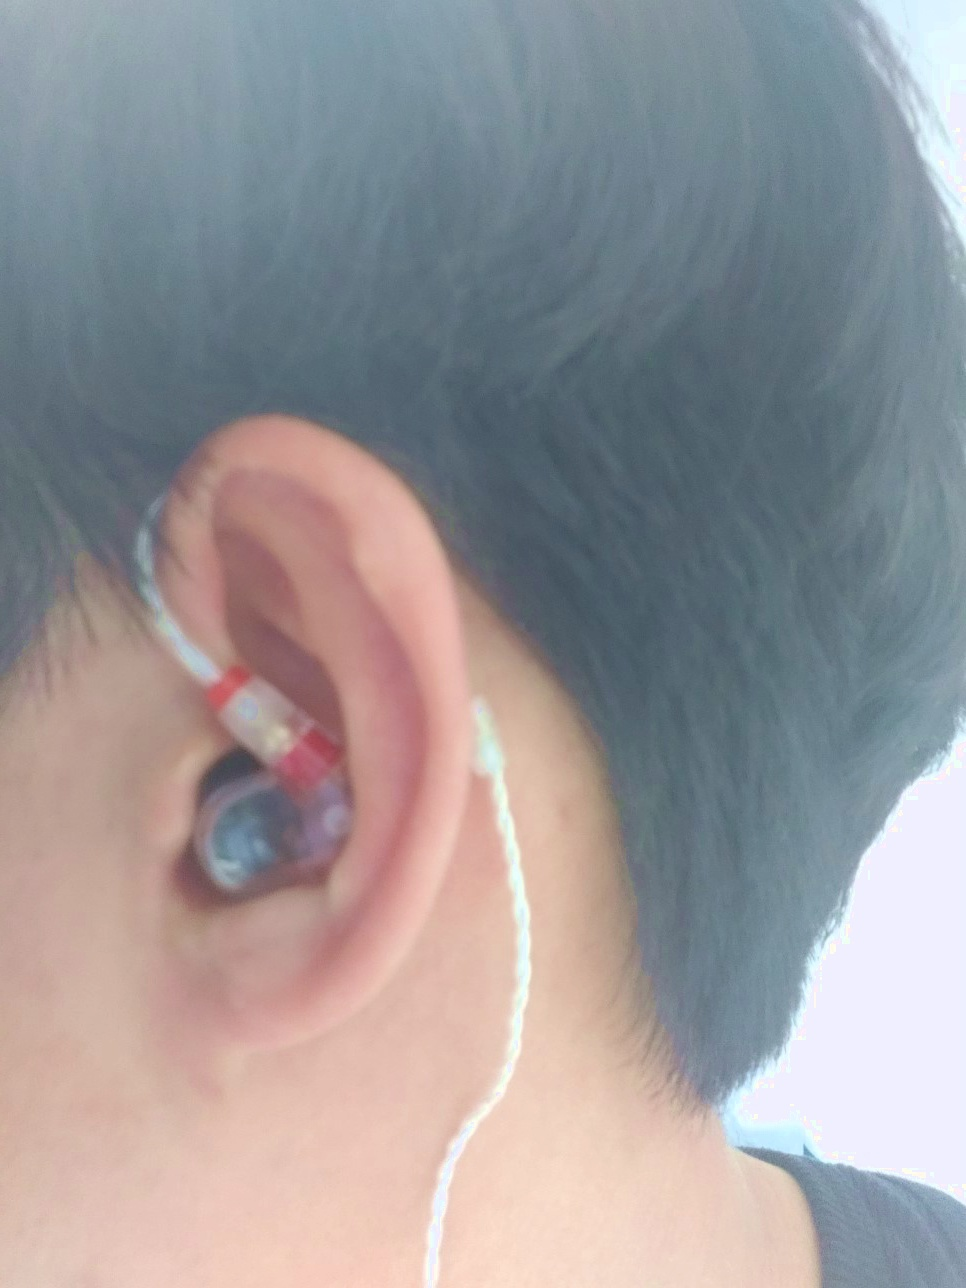earphone: (143, 415, 471, 1079)
